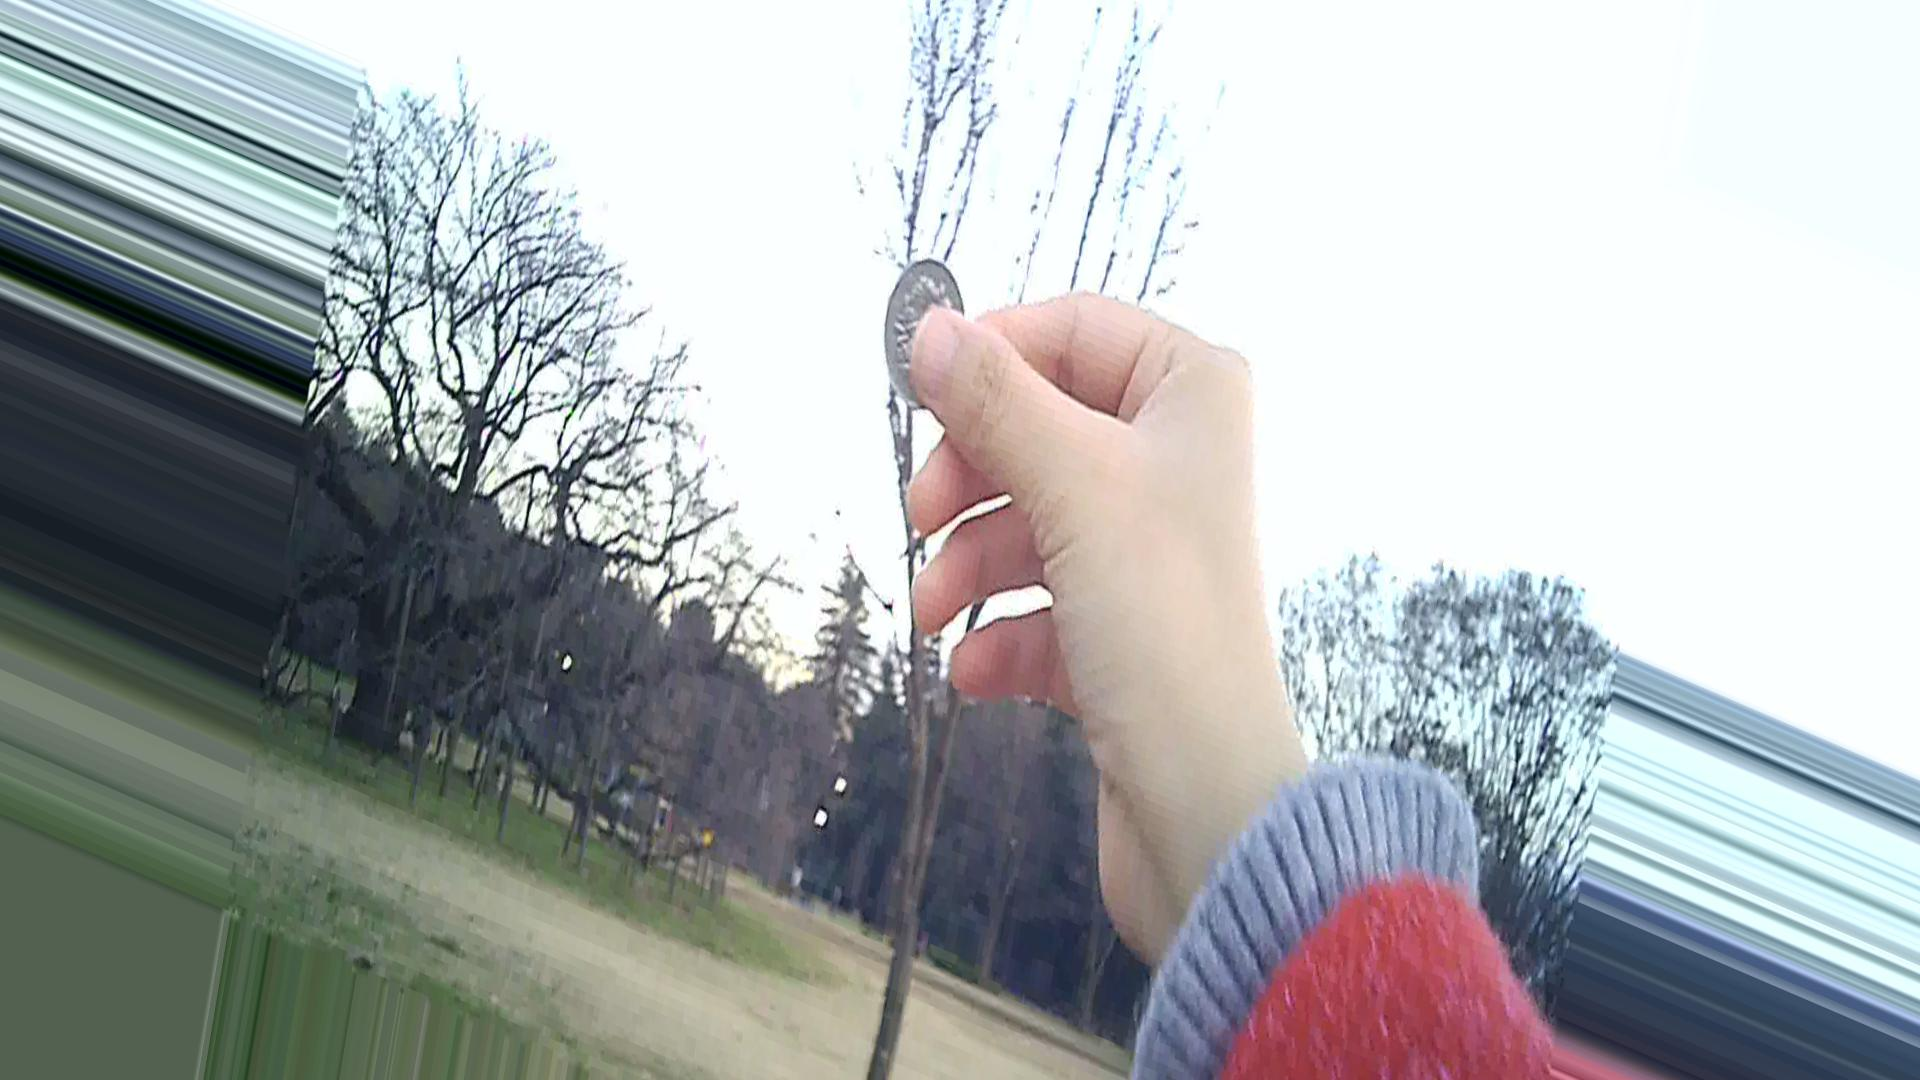100 Yen: (874, 256, 985, 404)
